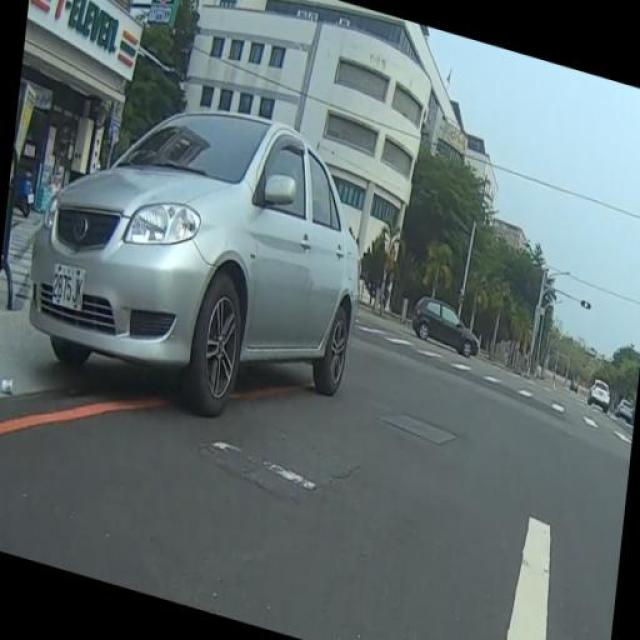Legalparking: (17, 96, 399, 446)
